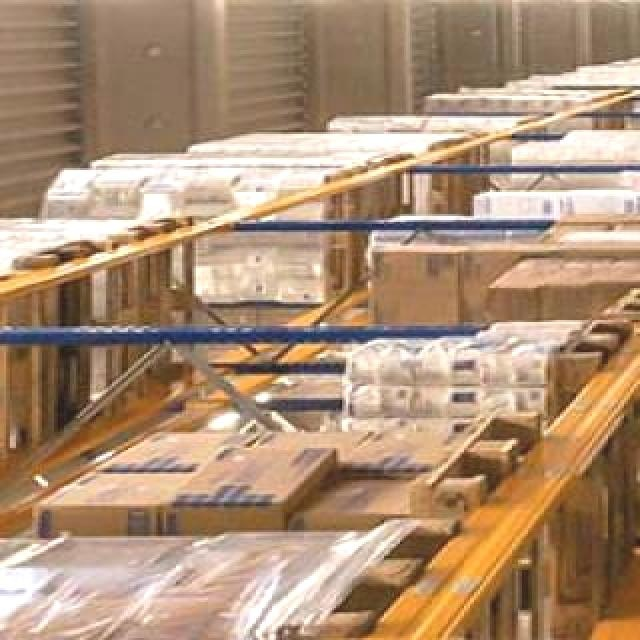fluorescent tube: (62, 0, 168, 4), (420, 0, 464, 8), (282, 0, 348, 4), (506, 0, 536, 6), (614, 0, 636, 8), (462, 0, 504, 4), (196, 0, 268, 2), (538, 0, 566, 4), (590, 0, 616, 4), (362, 0, 412, 2), (568, 0, 592, 2), (638, 0, 640, 6)
